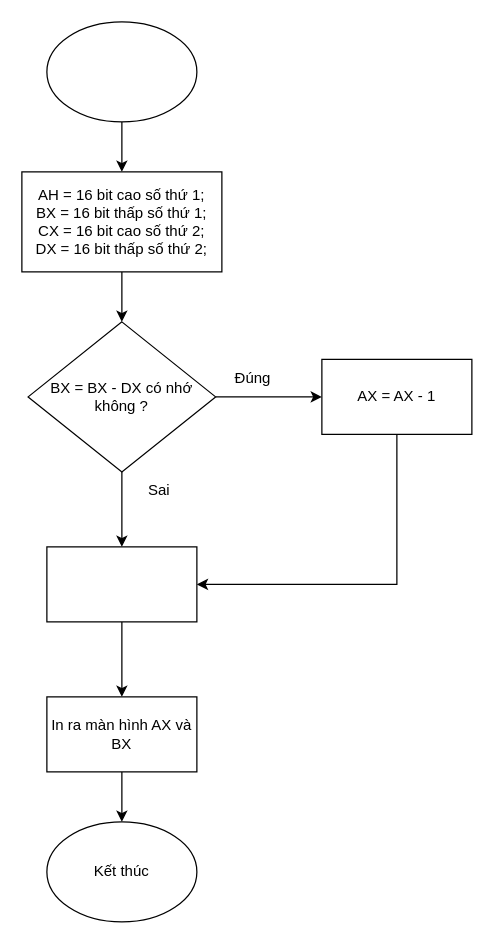
This 494x944 diagram has some shape labels left out. Here are the shapes that lost their labels. From the top down, the centre of each, then its label:
At (x=121, y=71): "Bắt đầu".
At (x=121, y=584): "AX = AX - CX".
